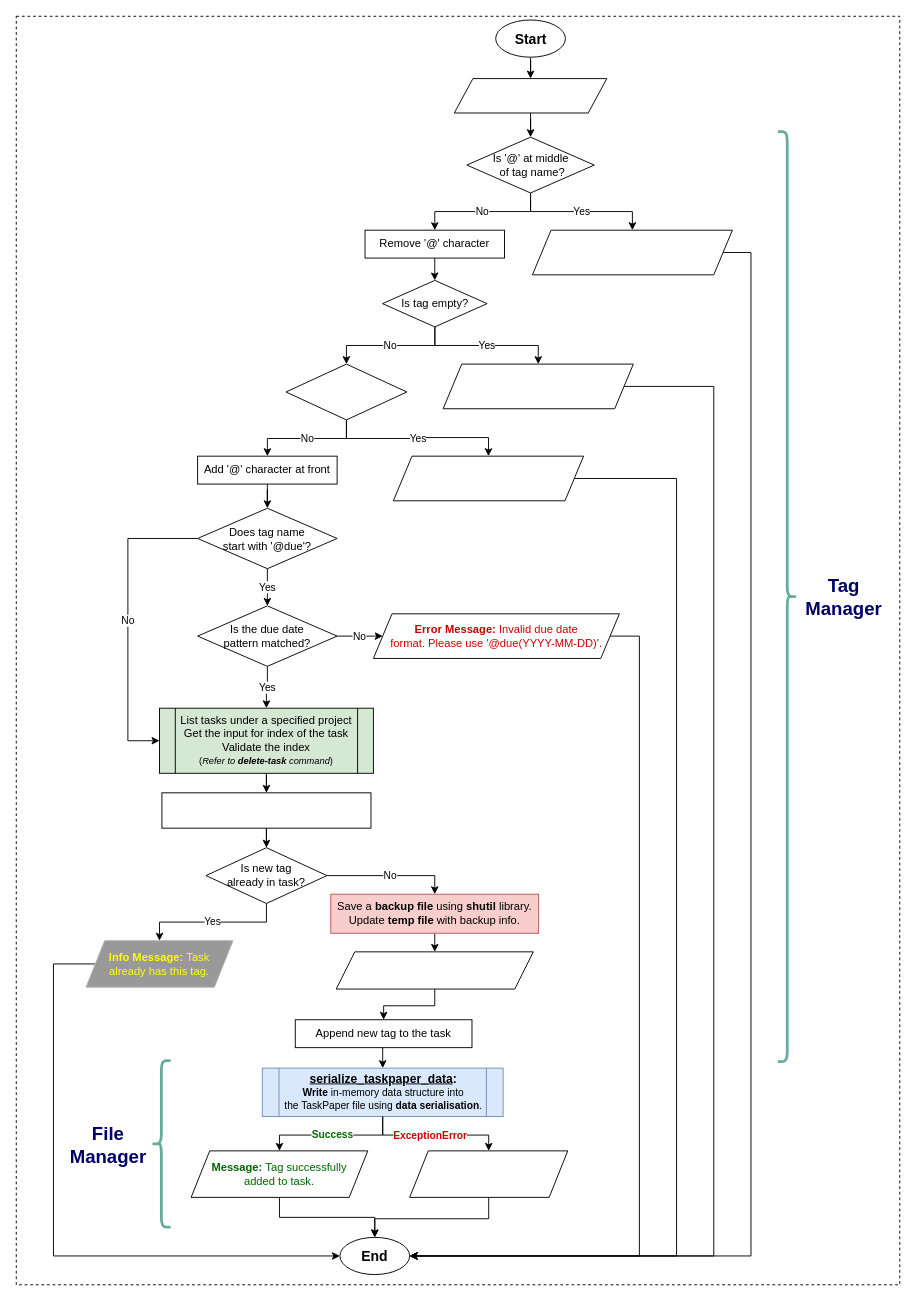
The diagram is 916 pixels wide and 1301 high, and some of its shapes have lost their labels. Here are the shapes that lost their labels. From the top down, the centre of each, then its label:
point (530, 95): CLI: " add-tag " command input
point (631, 252): Error Message: A tag must start with '@' or not contain '@' at all.
point (346, 391): Does tag name have spaces?
point (537, 386): Error Message: Invalid tag. The tag name cannot be empty.
point (488, 478): Error Message: A tag must be a single word without spaces. .
point (266, 810): Find the reference of the task by its index from the in-memory data
point (434, 970): Message: Adding tag to the task under project in file...
point (488, 1173): Error Message: Unable to write the file.
